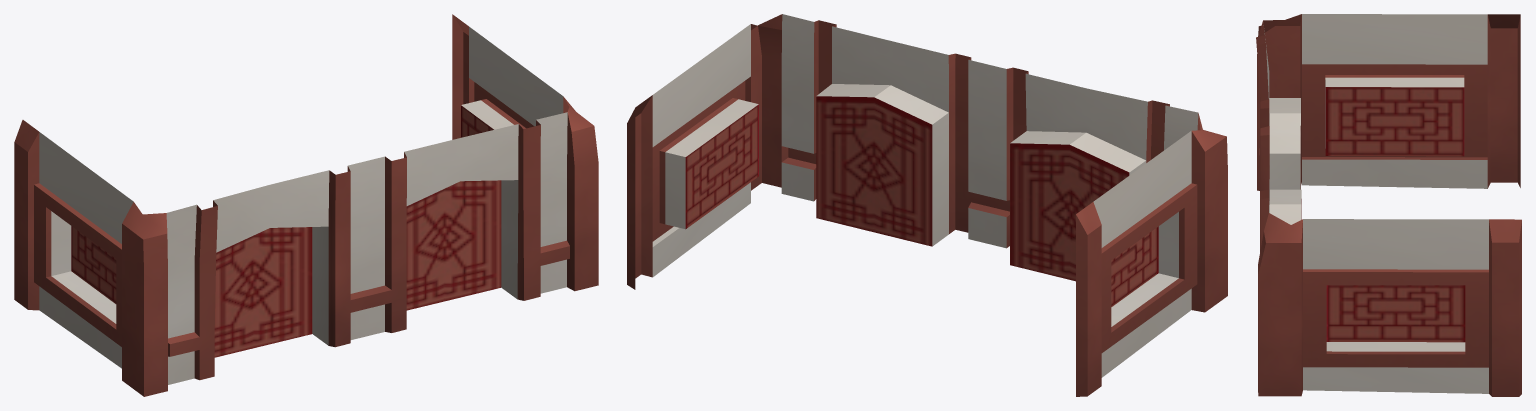
Rendered from floor_camp.fbx.
The picture shows the model from 3 angles, left to right: view 1: azimuth 30°, elevation 25°; view 2: azimuth 150°, elevation 25°; view 3: azimuth 270°, elevation 25°; orthographic projection. The views are drawn at different scales.
Visible parts, largest first — view 1: floor_camp; view 2: floor_camp; view 3: floor_camp.
Part boxes in pixels (x1=…): floor_camp: x1=14, y1=14, x2=598, y2=396; floor_camp: x1=627, y1=14, x2=1227, y2=396; floor_camp: x1=1256, y1=14, x2=1521, y2=396.
Size of the model in its own units: 5 by 1.88 by 2.59.
